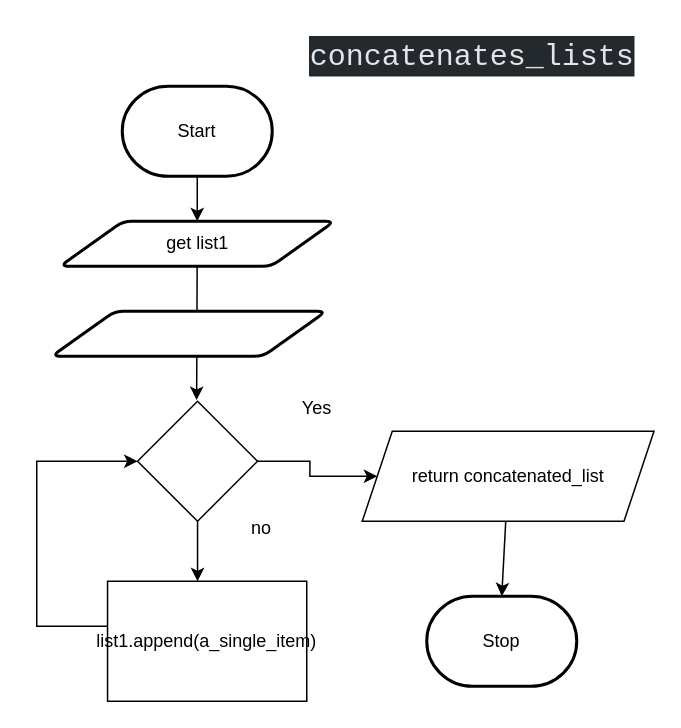
The diagram is 681 pixels wide and 728 high, and some of its shapes have lost their labels. The shapes that lost their labels are listed below. From the top down, each one's centre as x and y in pixels, then its label:
the point at 188,333: get list2
the point at 197,460: for a_single_item in list2
